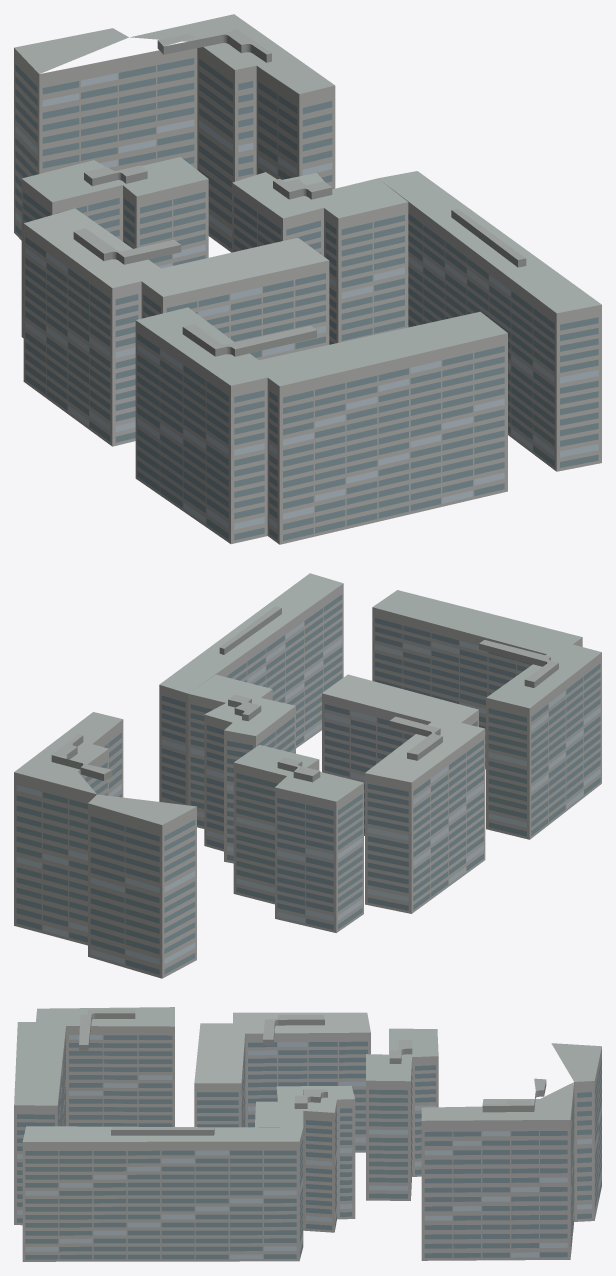
The model's file is apt-a13983709.glb.
3 renders of one model, top to bottom at view 1: azimuth 30°, elevation 25°; view 2: azimuth 150°, elevation 25°; view 3: azimuth 270°, elevation 25°, orthographic. The views are drawn at different scales.
Visible parts, largest first — view 1: apt-a13983709; view 2: apt-a13983709; view 3: apt-a13983709.
Part boxes in pixels (bbox=[...]): apt-a13983709: bbox=[14, 14, 601, 544]; apt-a13983709: bbox=[14, 573, 601, 978]; apt-a13983709: bbox=[14, 1007, 601, 1261].
Size of the model in its own units: 94.63 by 47.81 by 174.
